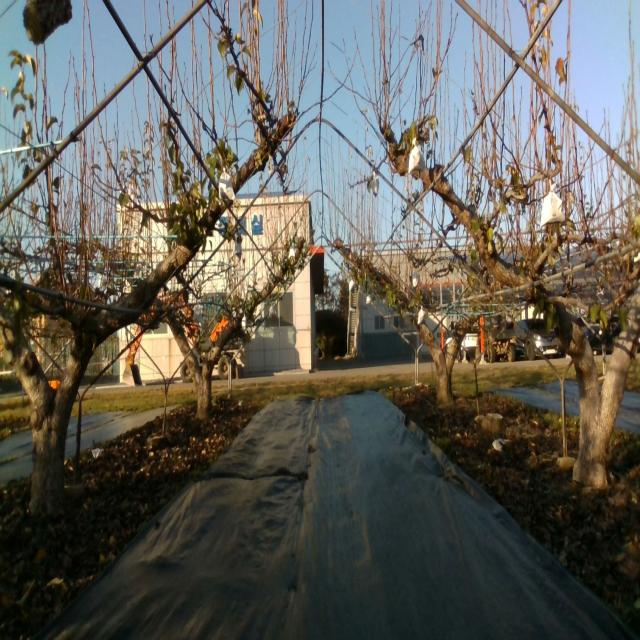pearbags: (539, 180, 566, 226), (408, 137, 427, 172), (218, 167, 235, 206), (193, 306, 204, 323)
